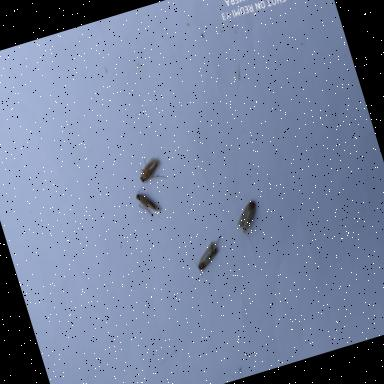pbw: (188, 234, 232, 278), (231, 198, 264, 238), (134, 153, 168, 187), (134, 183, 164, 220)
